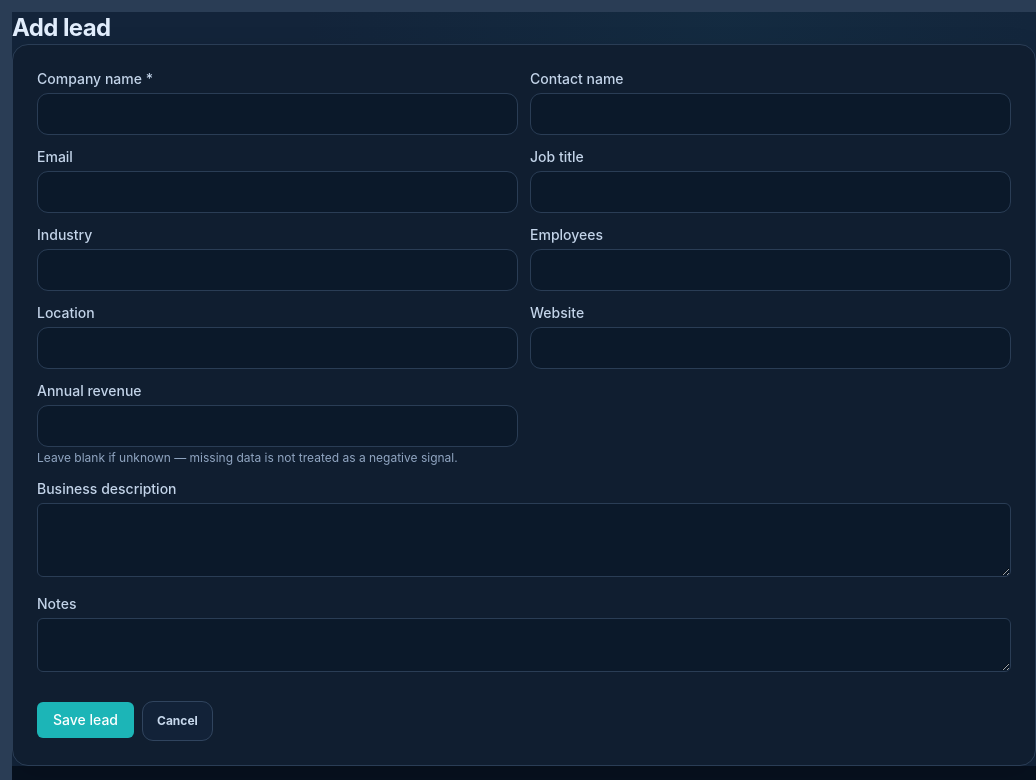
it: lead form validation › blocks submit and shows messages
Click the button "Save lead".
click(86, 720)  # box left=37, top=702, right=134, bottom=738
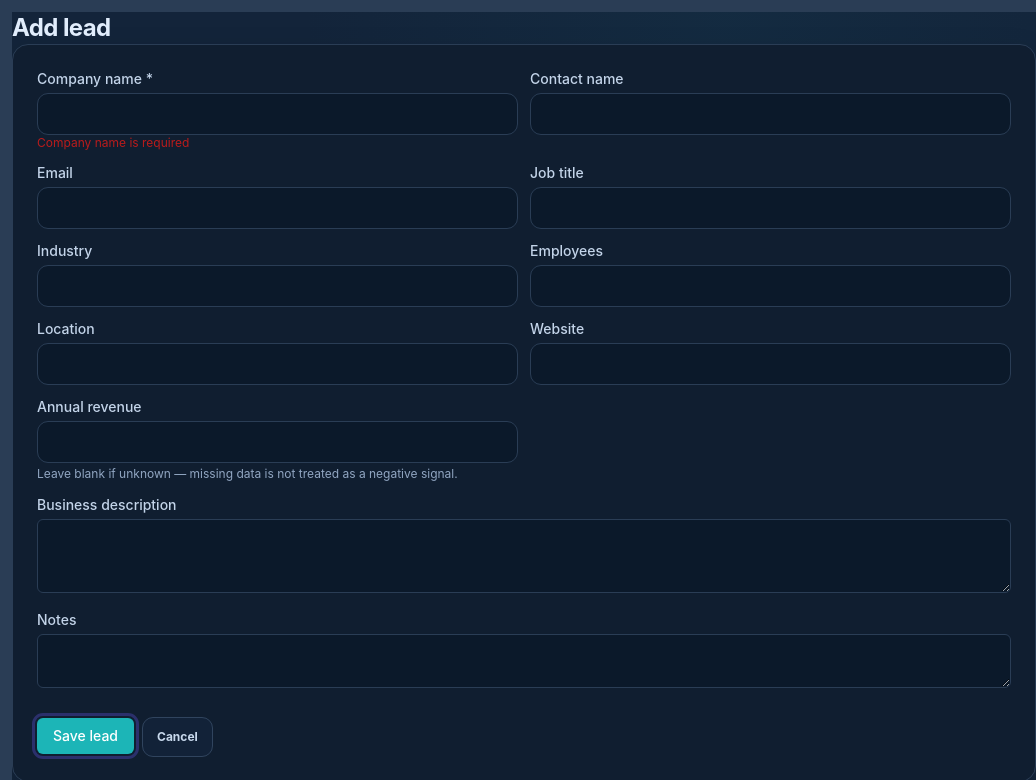
expect the text "Company name is required" is shown: met, box left=37, top=135, right=189, bottom=150
